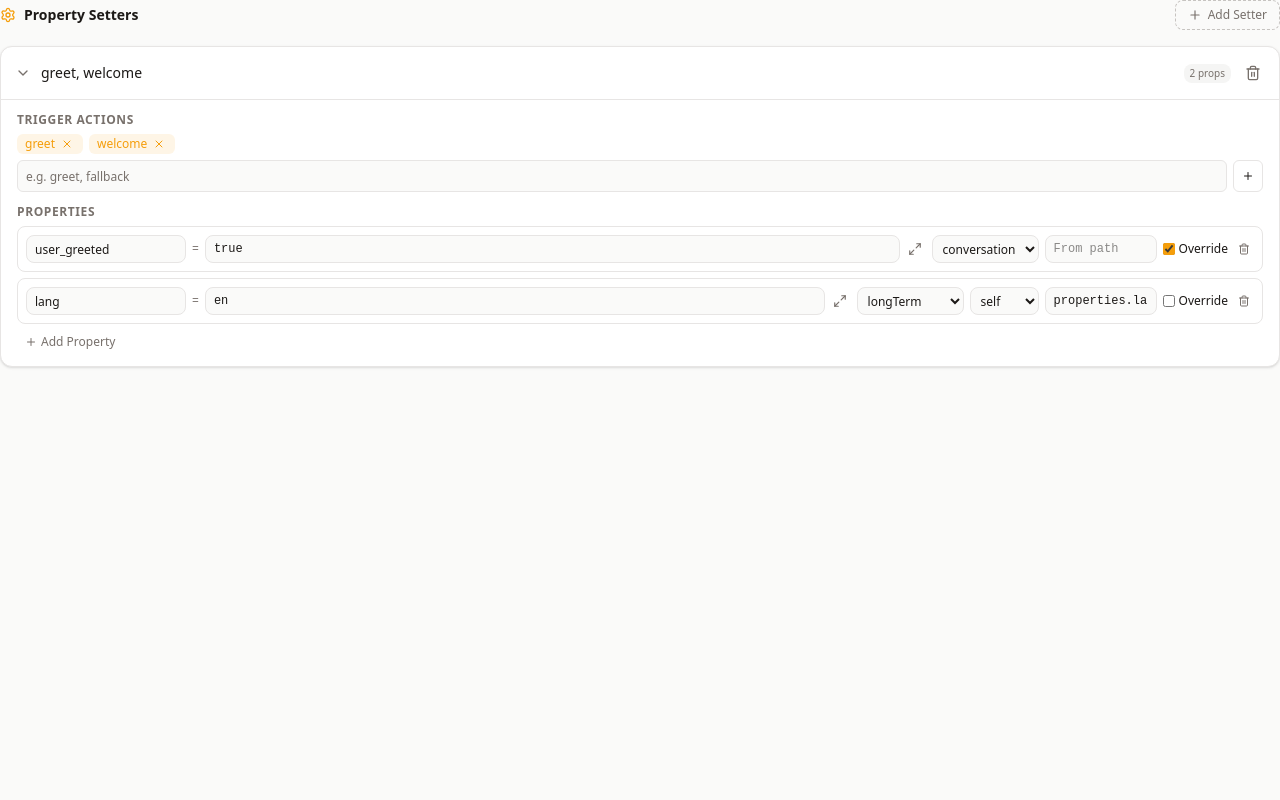
it: PropertySetterEditor › closes value editor modal when Cancel is clicked
Open modal
Click the 1st button titled "Edit in editor" at (915,249), box [904,238,926,260]
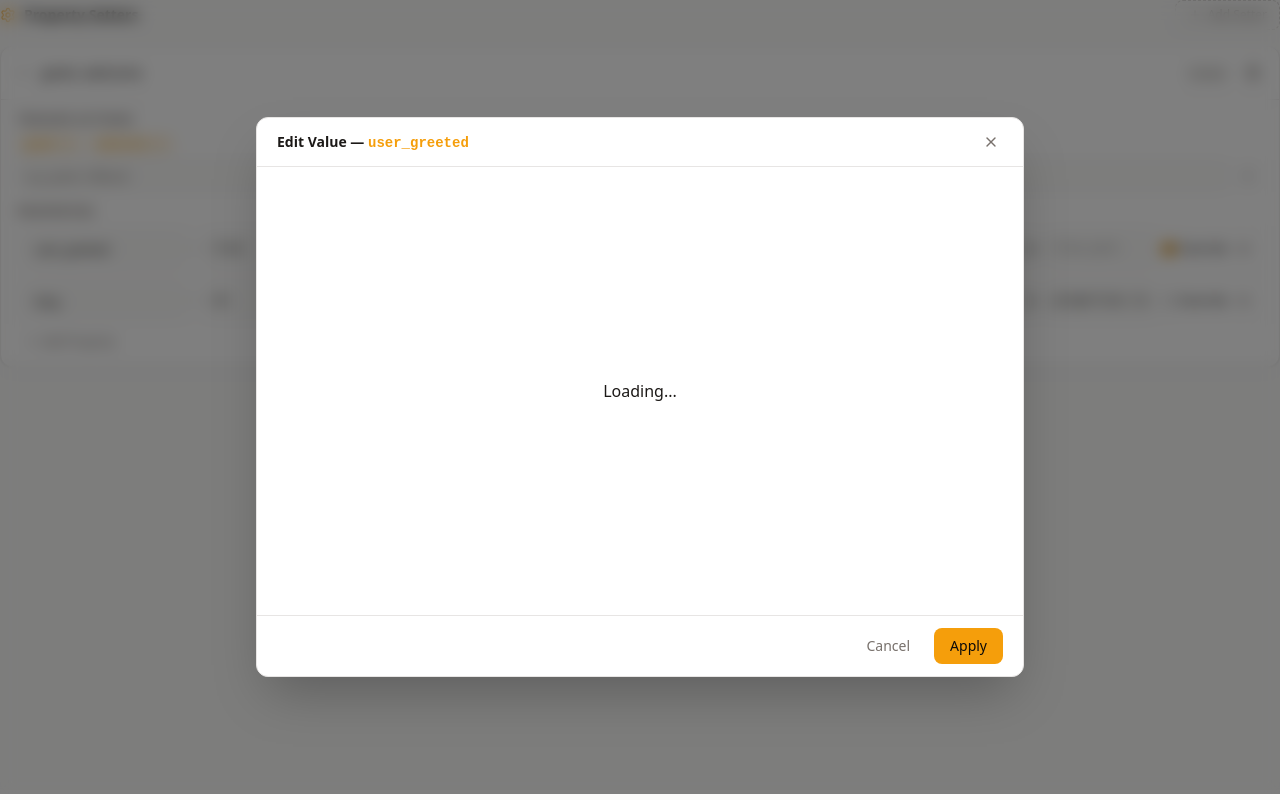
Close modal
Click the button "Cancel" at (888,646), box [850,628,926,664]
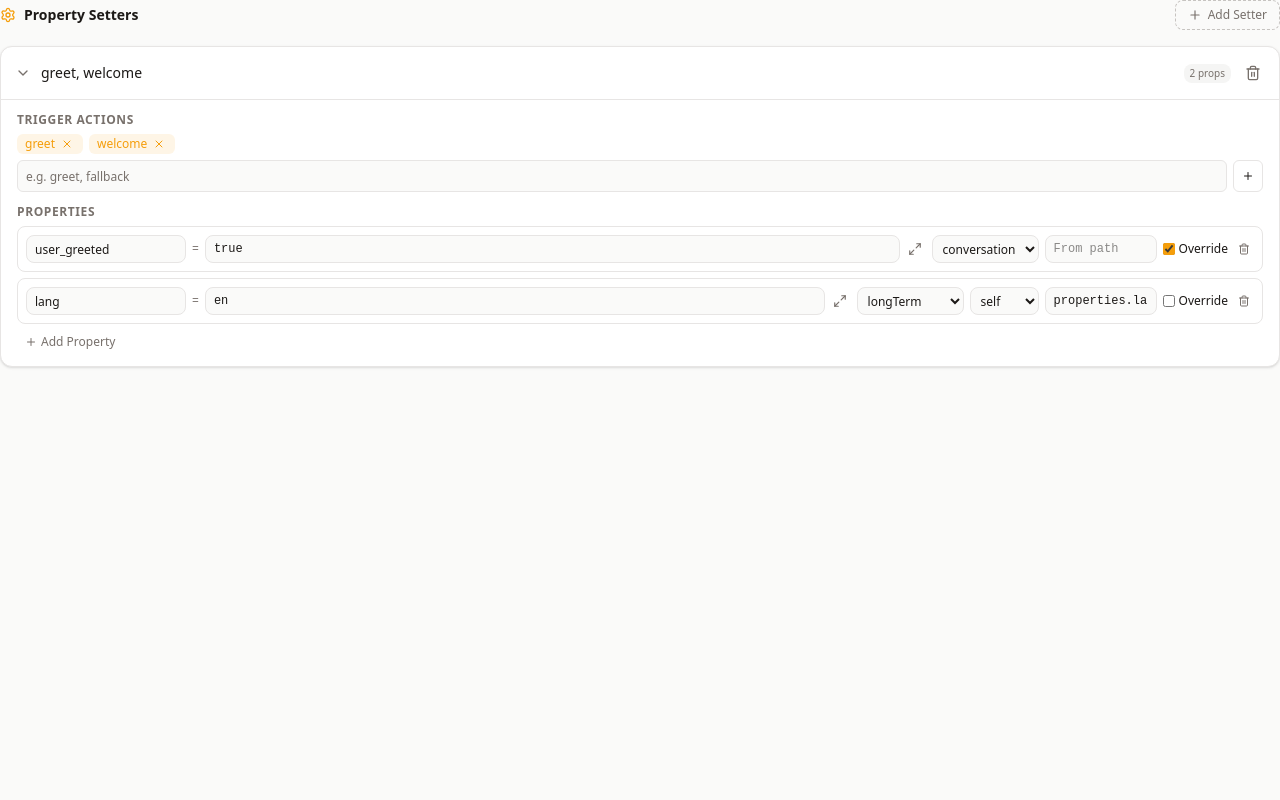
Expected: the heading "Edit Value" is gone
